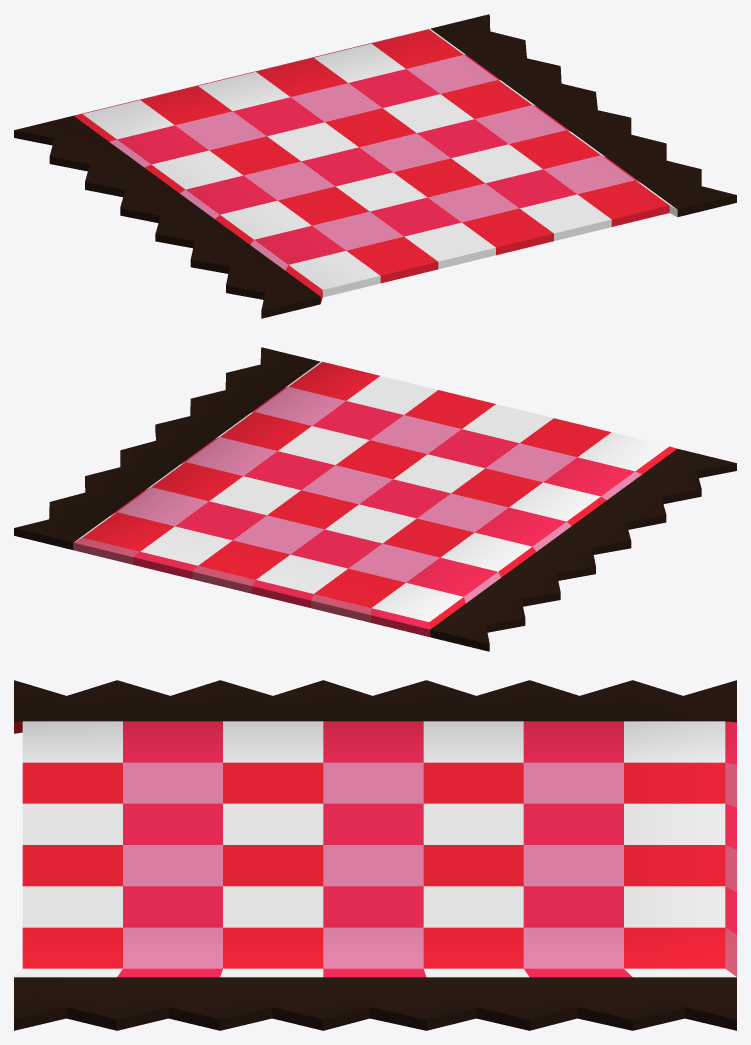
File: Dotjari1-1.fbx
The picture shows the model from 3 angles, top to bottom: view 1: azimuth 30°, elevation 25°; view 2: azimuth 150°, elevation 25°; view 3: azimuth 270°, elevation 25°; orthographic projection. The views are drawn at different scales.
Parts seen in each view (by area): view 1: Dotjari1-1; view 2: Dotjari1-1; view 3: Dotjari1-1.
Part boxes in pixels (x1,y1,x2,y2): Dotjari1-1: (14,14,736,318); Dotjari1-1: (14,347,736,651); Dotjari1-1: (14,680,736,1030).
Size of the model in its own units: 1.15 by 0.0253 by 1.03.
